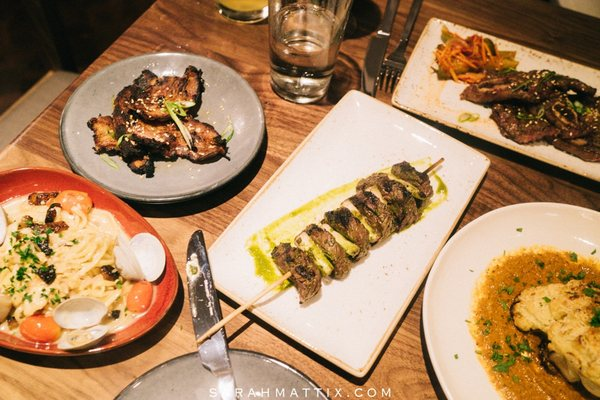burger: (370, 1, 423, 98)
pizza: (267, 0, 353, 104), (216, 0, 270, 23)
sandwich: (188, 229, 223, 344)
sushi: (419, 200, 600, 396)
